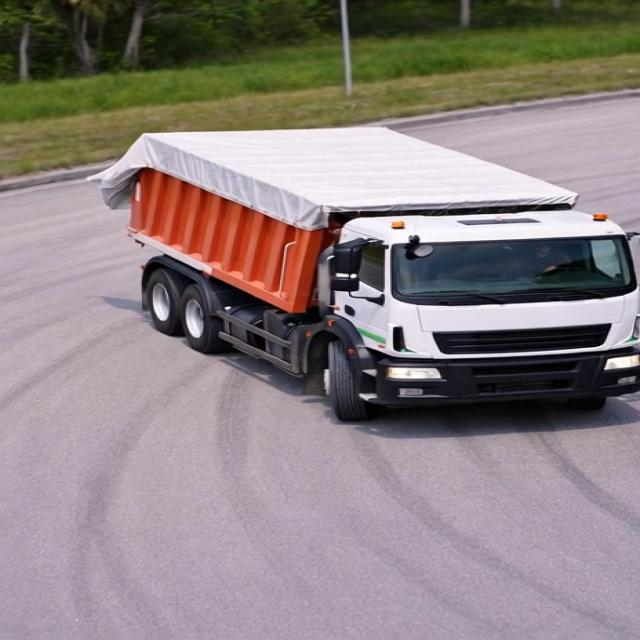trailer: (121, 125, 604, 222)
truck: (90, 71, 636, 430)
